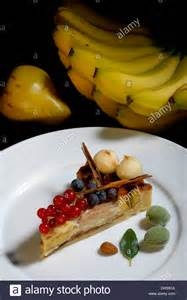banana: (66, 42, 178, 86), (89, 53, 182, 99)
